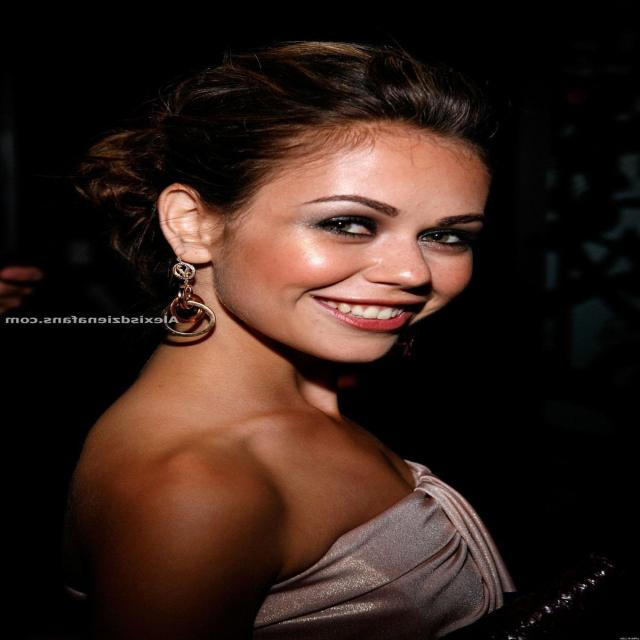no-earmuff: (128, 170, 237, 279)
